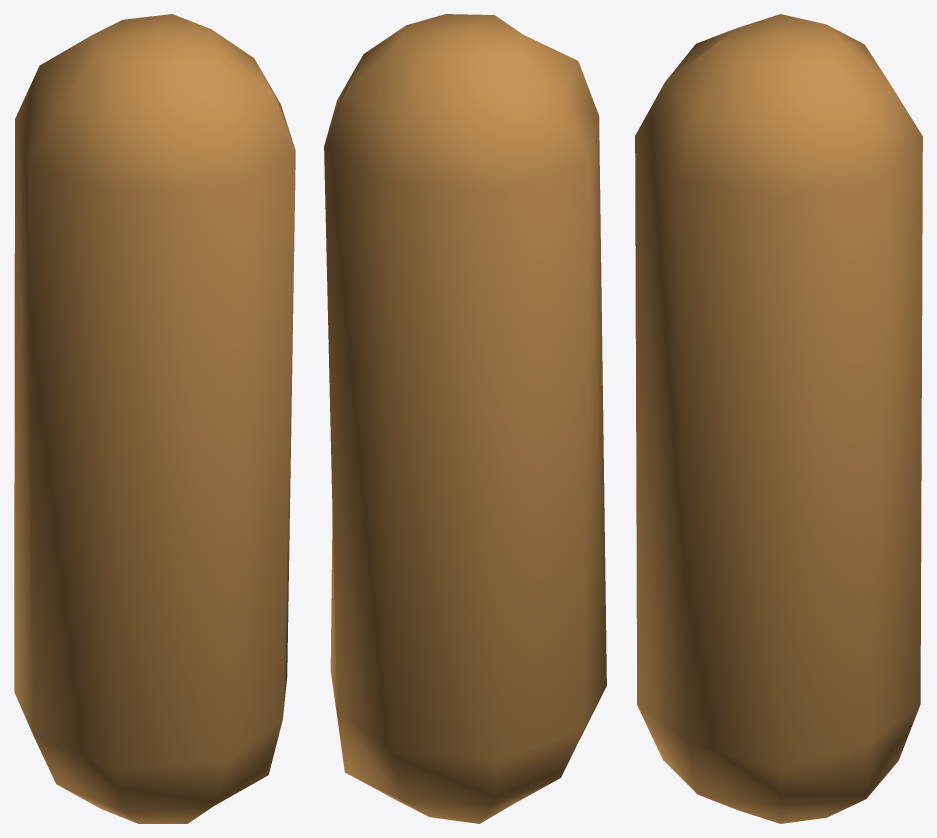
Rendered from long_straight.glb.
3 renders of one model, left to right at view 1: azimuth 30°, elevation 25°; view 2: azimuth 150°, elevation 25°; view 3: azimuth 270°, elevation 25°, orthographic.
Parts seen in each view (by area): view 1: world; view 2: world; view 3: world.
Boxes of the visible parts, bbox=[...] form: world: bbox=[14, 14, 295, 823]; world: bbox=[324, 14, 606, 823]; world: bbox=[635, 14, 922, 823].
Size of the model in its own units: 17.88 by 51.99 by 17.35.
